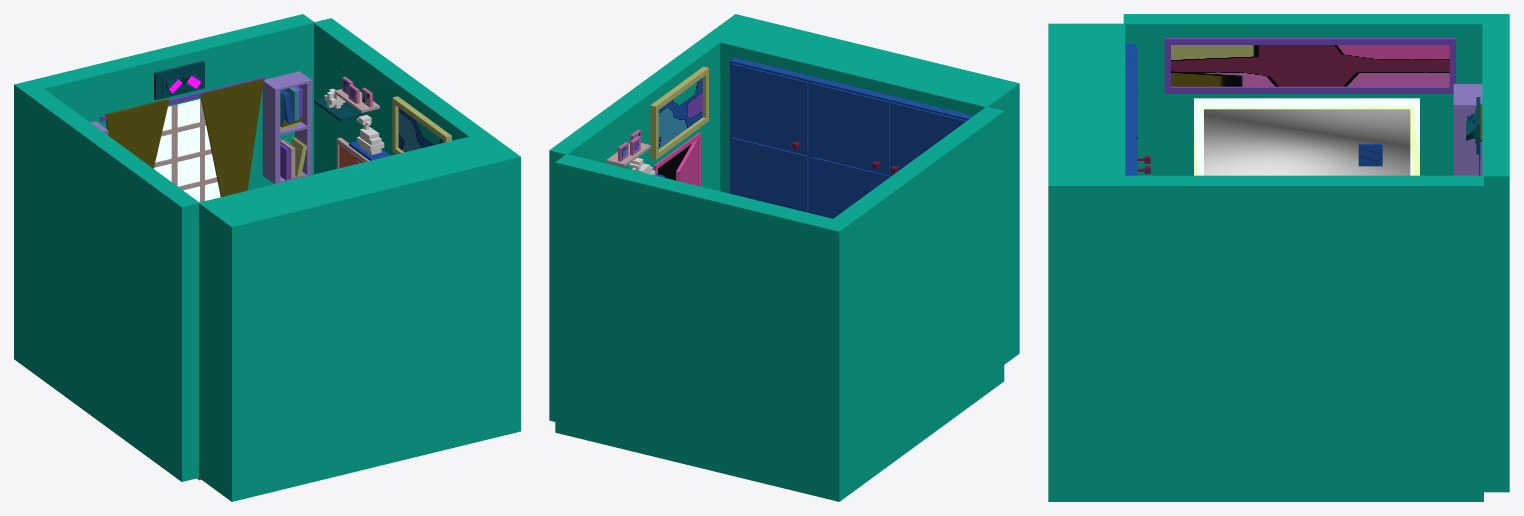
The model's file is Bedroom 1.fbx.
3 views of the same model, side by side, from view 1: azimuth 30°, elevation 25°; view 2: azimuth 150°, elevation 25°; view 3: azimuth 270°, elevation 25° (orthographic). The views are drawn at different scales.
Visible parts, largest first — view 1: Side2, Side1; view 2: Side1, Side2, Door closet, Door Room; view 3: Side2, Side1, Puzzle8.
Part boxes in pixels (box(x1,y1,x2,y2)): Side2: box(199, 18, 520, 501); Side1: box(14, 14, 314, 481); Side1: box(555, 106, 1004, 501); Side2: box(549, 14, 1019, 421); Door closet: box(811, 157, 889, 218); Door Room: box(676, 139, 697, 185); Side2: box(1048, 23, 1483, 501); Side1: box(1123, 14, 1509, 492); Puzzle8: box(1358, 144, 1382, 166).
Bounding box in the file's own units: 225 × 195 × 256.
